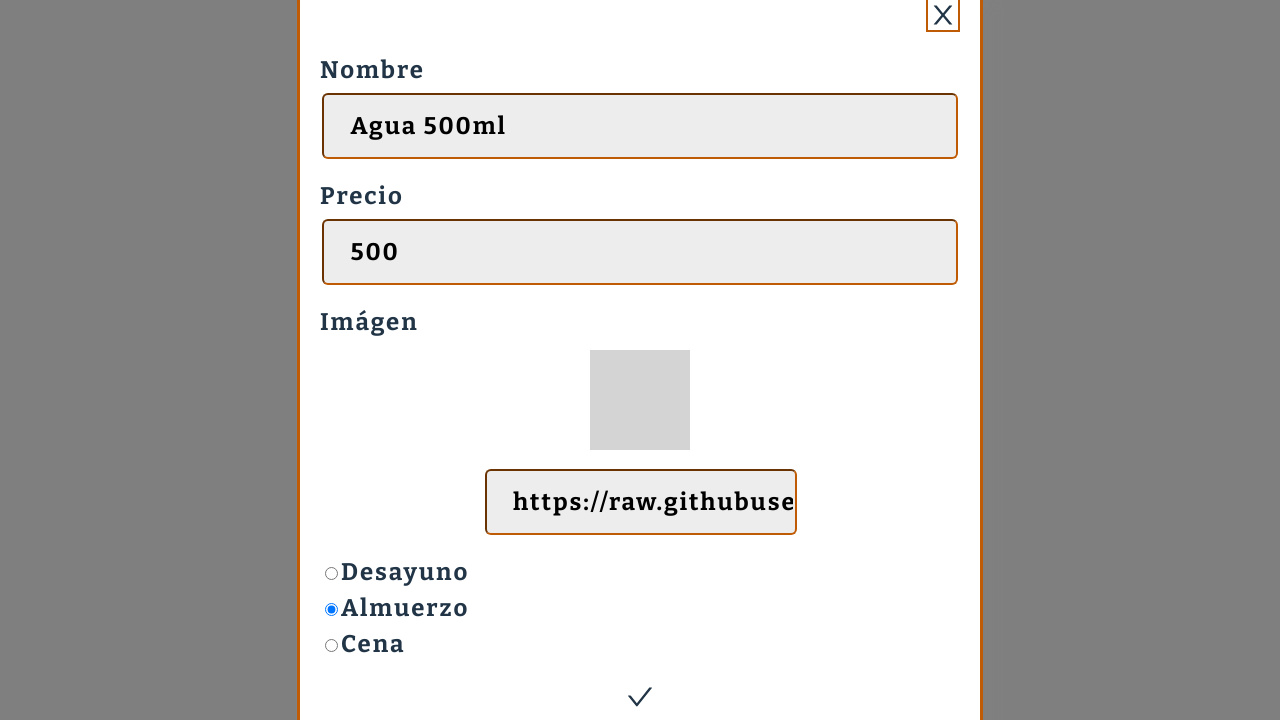
Scenario: ModalEditProduct component › have a function to send edit
Click the radio button labelled "Desayuno" at (332, 574), box [325,567,338,580]
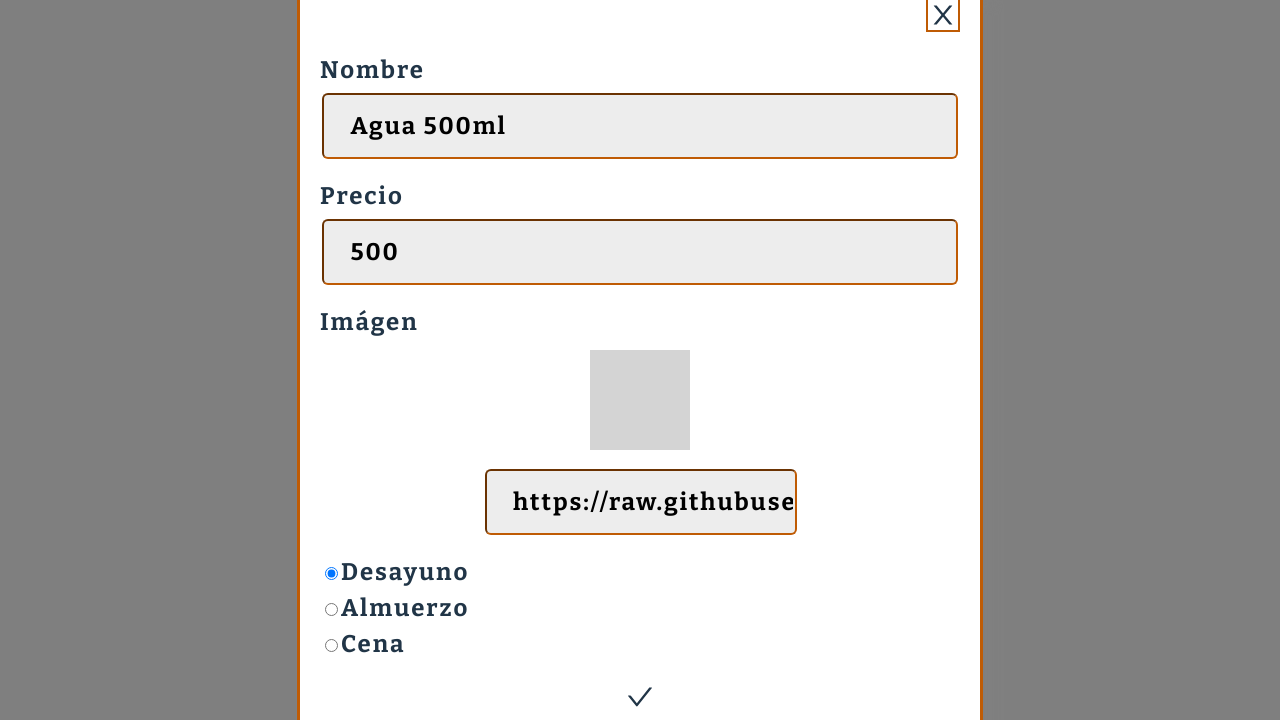
Expected: the radio button labelled "Cena" is not checked, [325,639,338,652]
Result: the radio button labelled "Desayuno" is checked at [325,567,338,580]
Result: the radio button labelled "Almuerzo" is not checked at [325,603,338,616]
